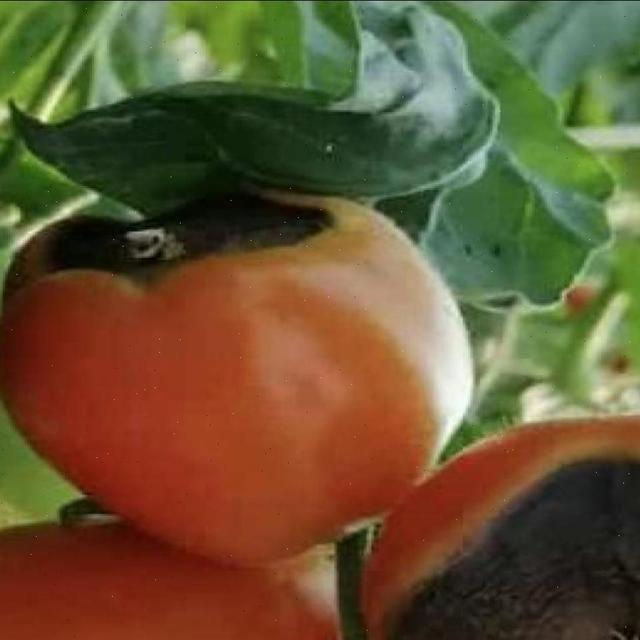Blossom End Rot Fruit: (0, 122, 238, 196)
